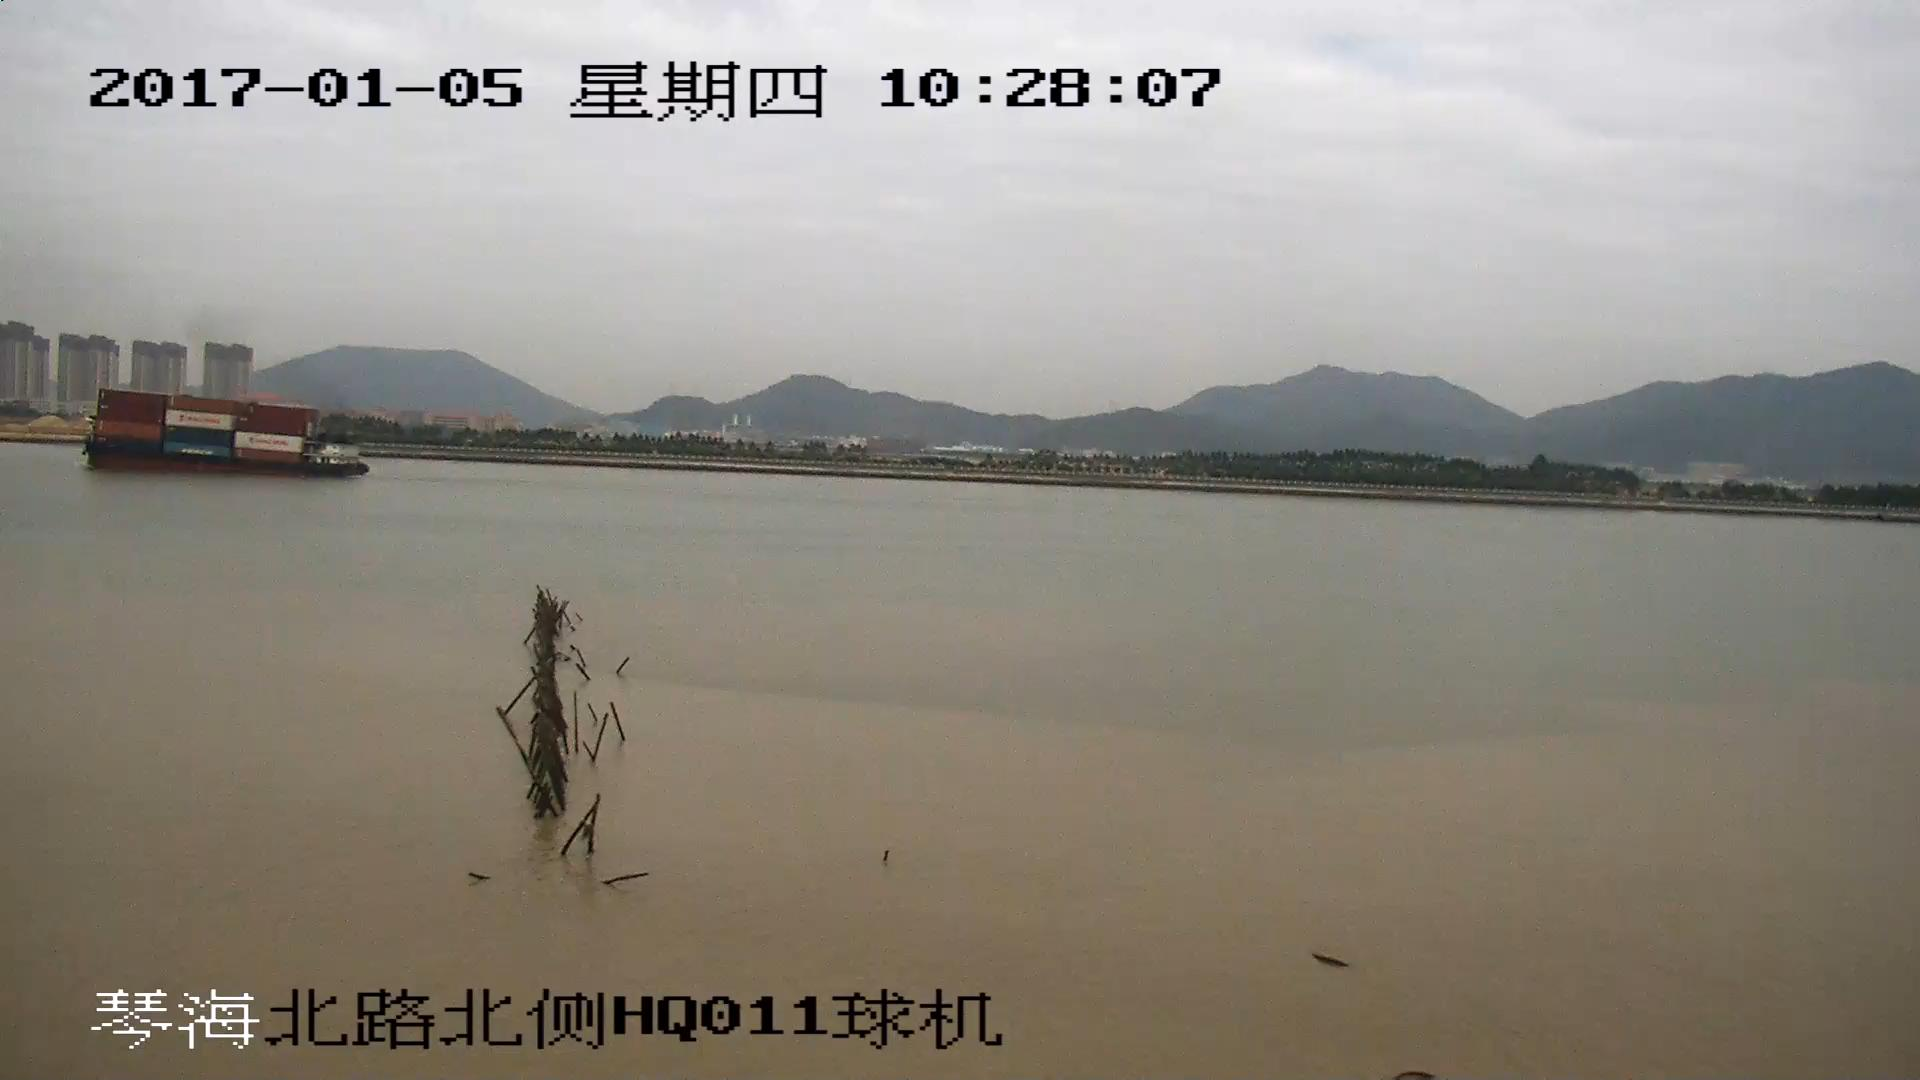container ship: (78, 387, 369, 481)
